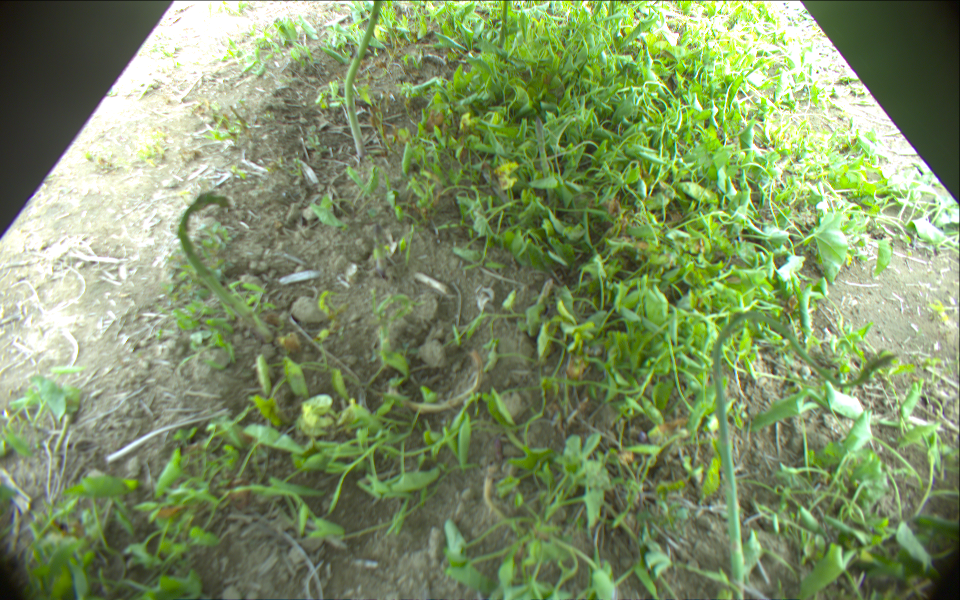aspa: (713, 312, 900, 600), (176, 191, 270, 337), (344, 1, 383, 159), (534, 118, 553, 184), (497, 1, 511, 49)
